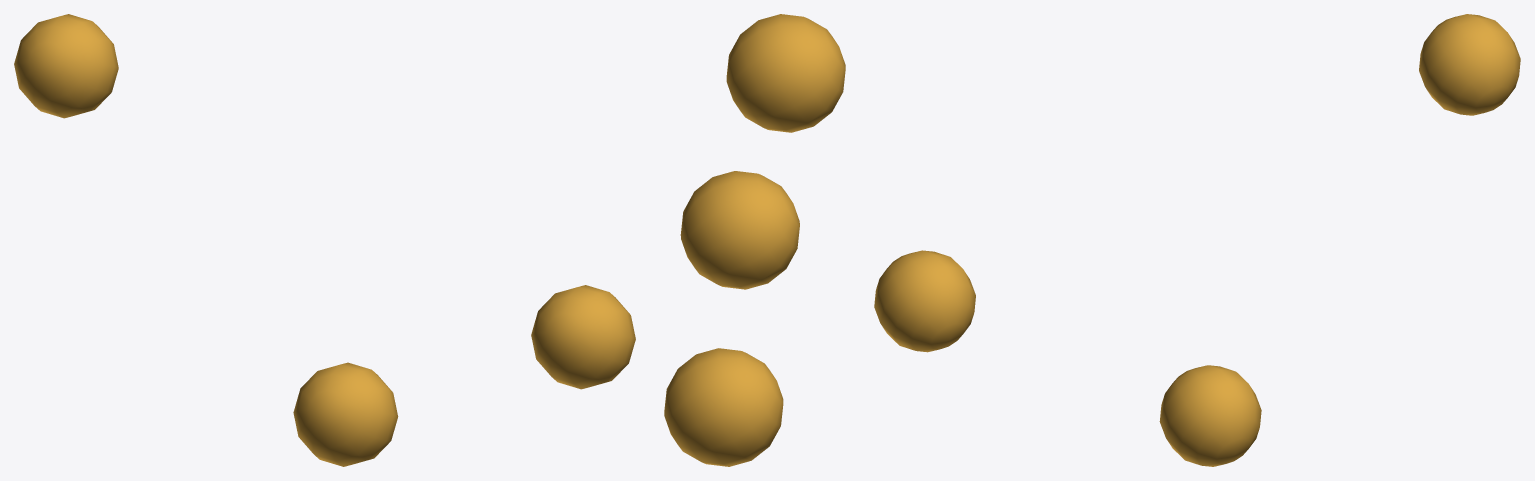
3 renders of one model, left to right at view 1: azimuth 30°, elevation 25°; view 2: azimuth 150°, elevation 25°; view 3: azimuth 270°, elevation 25°, orthographic. The views are drawn at different scales.
Parts seen in each view (by area): view 1: 左侧腮腺内淋巴结; view 2: 左侧腮腺内淋巴结; view 3: 左侧腮腺内淋巴结.
Boxes of the visible parts, x1,y1,x2,y2 form: 左侧腮腺内淋巴结: (14,14,635,466); 左侧腮腺内淋巴结: (664,14,845,466); 左侧腮腺内淋巴结: (874,14,1520,466).
Size of the model in its own units: 0.0139 by 0.0153 by 0.0241.
